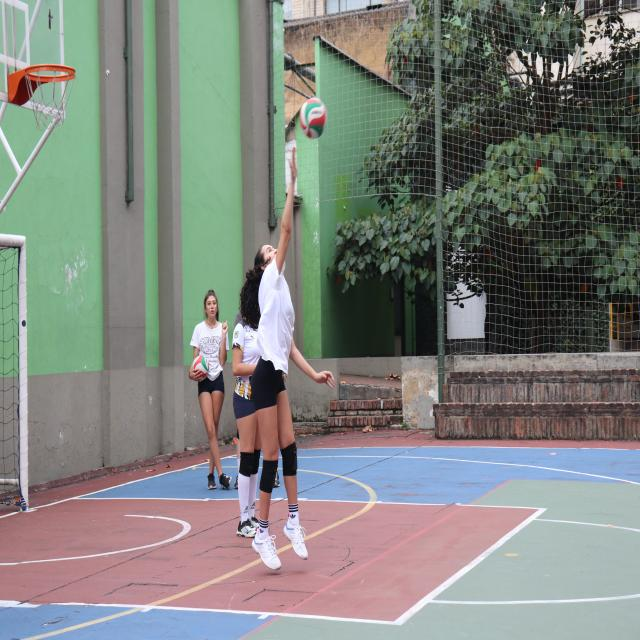volleyball: (299, 96, 327, 140), (192, 356, 209, 382)
